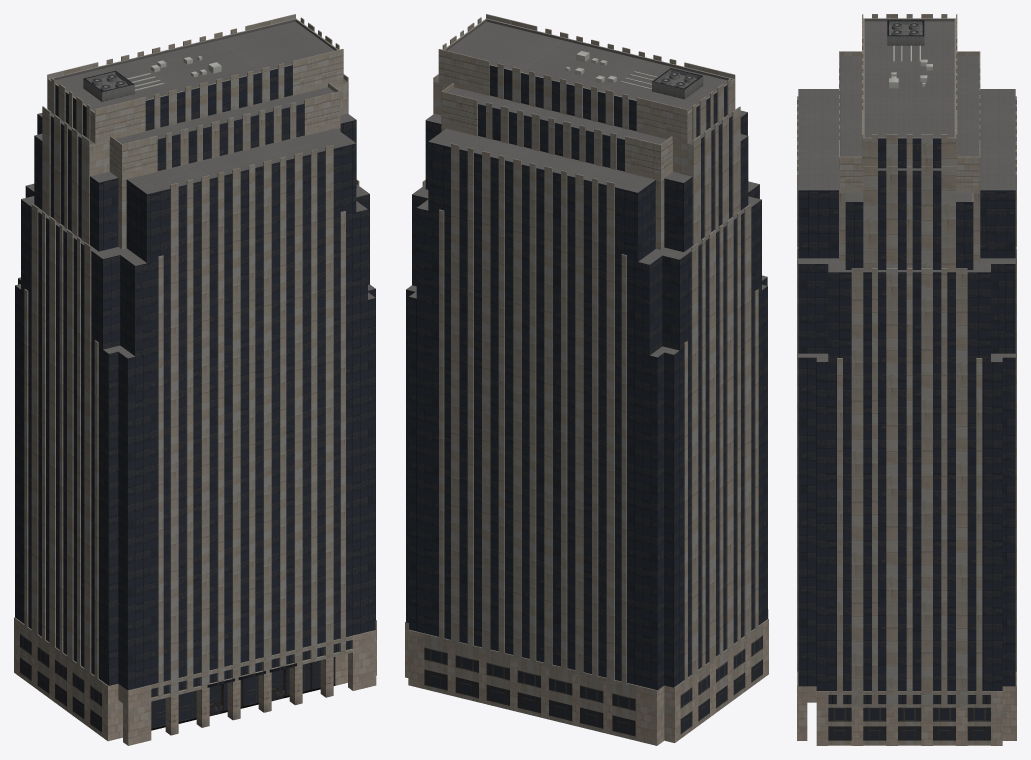
The model's file is lasalleplaza.fbx.
3 views of the same model, side by side, from view 1: azimuth 30°, elevation 25°; view 2: azimuth 150°, elevation 25°; view 3: azimuth 270°, elevation 25° (orthographic).
Visible parts, largest first — view 1: Cube.003; view 2: Cube.003; view 3: Cube.003.
Part boxes in pixels (box(x1,y1,x2,y2)): Cube.003: box(14, 14, 376, 745); Cube.003: box(405, 14, 768, 745); Cube.003: box(797, 14, 1016, 745).
Bounding box in the file's own units: 560000 × 1224656 × 400000.
Materials: 1 (1 with a texture image).
